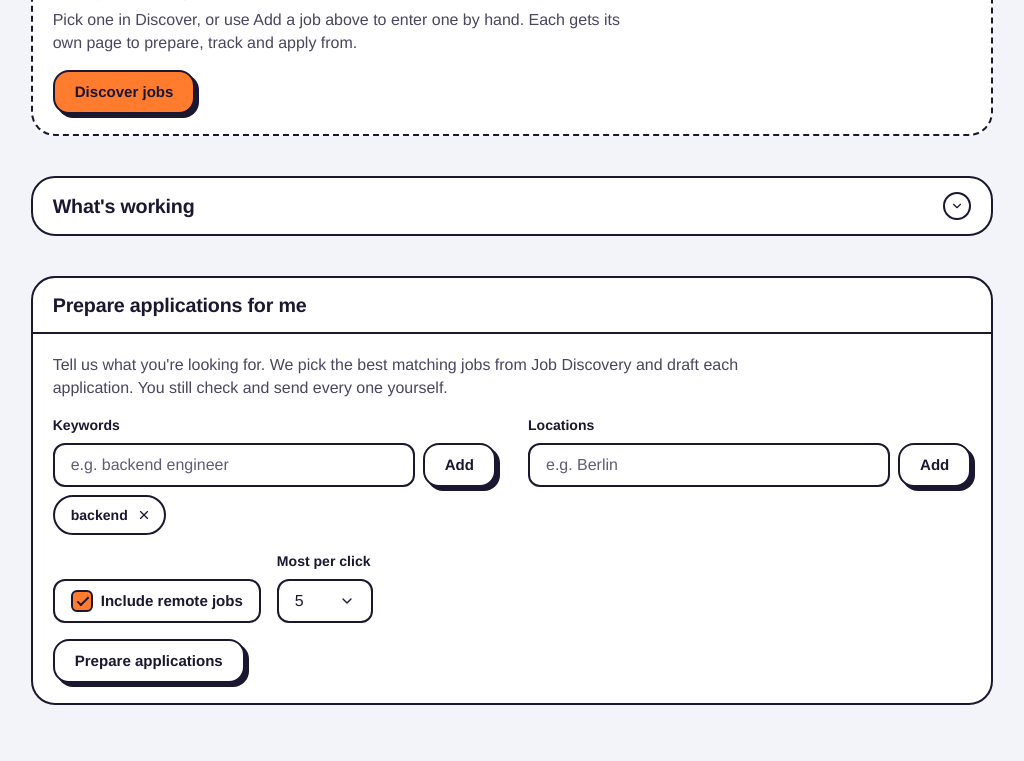
Test: Prepare applications for me › reports how many applications were prepared and refreshes the board
(page scrolled)
Expected: the text "backend" is shown, [71,505,128,525]
Step 1. Click the button "Prepare applications" → (149, 661), box [53,639,245,683]
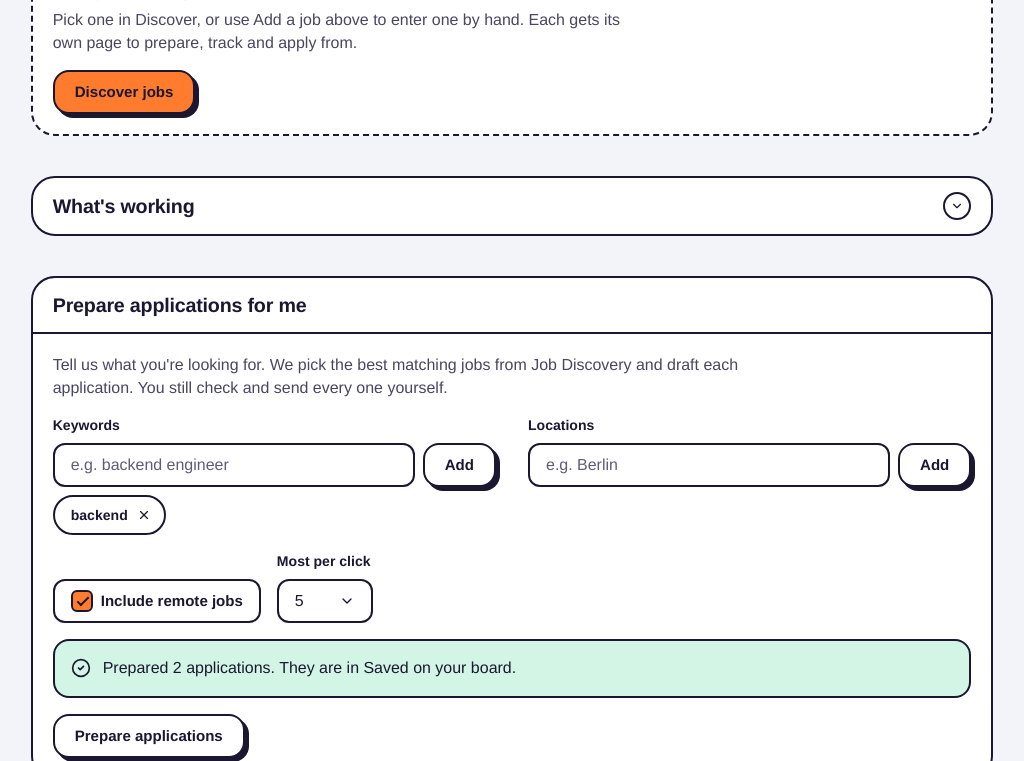
Expected: the text "Prepared 2 applications. They are in Saved on your board." is shown, [103,658,516,678]
